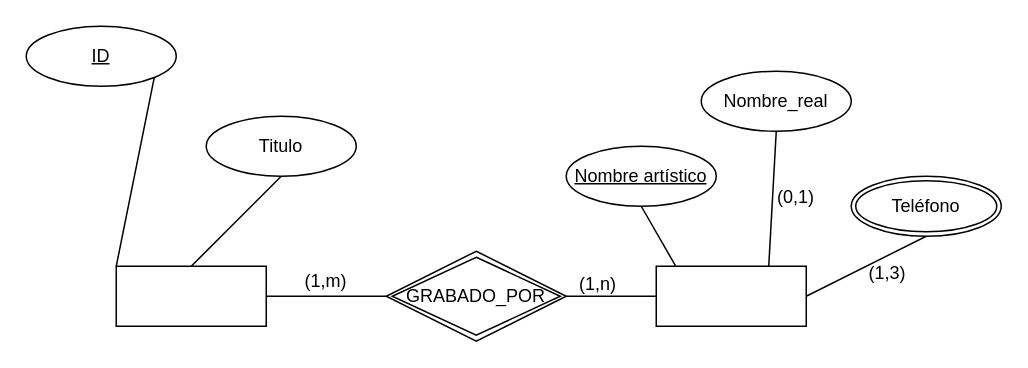
Some shapes in this 1028 by 368 pixel diagram are drawn without their labels. The centre of each missing label's shape, as x and y in pixels:
Cantante: pixel 730 295
CD: pixel 190 295
